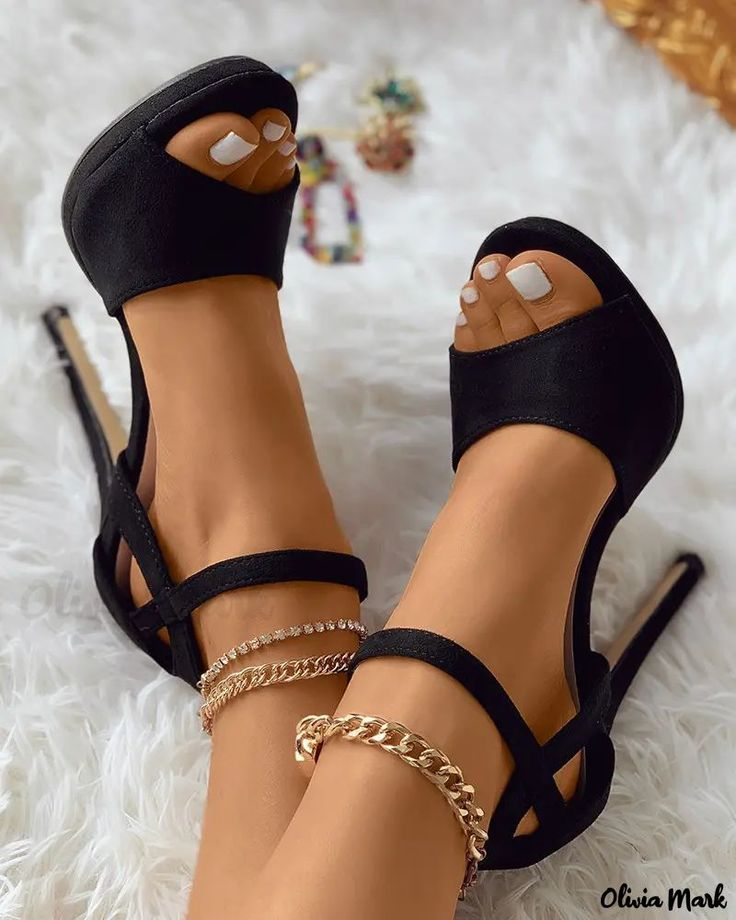gamuza: (70, 71, 684, 866)
